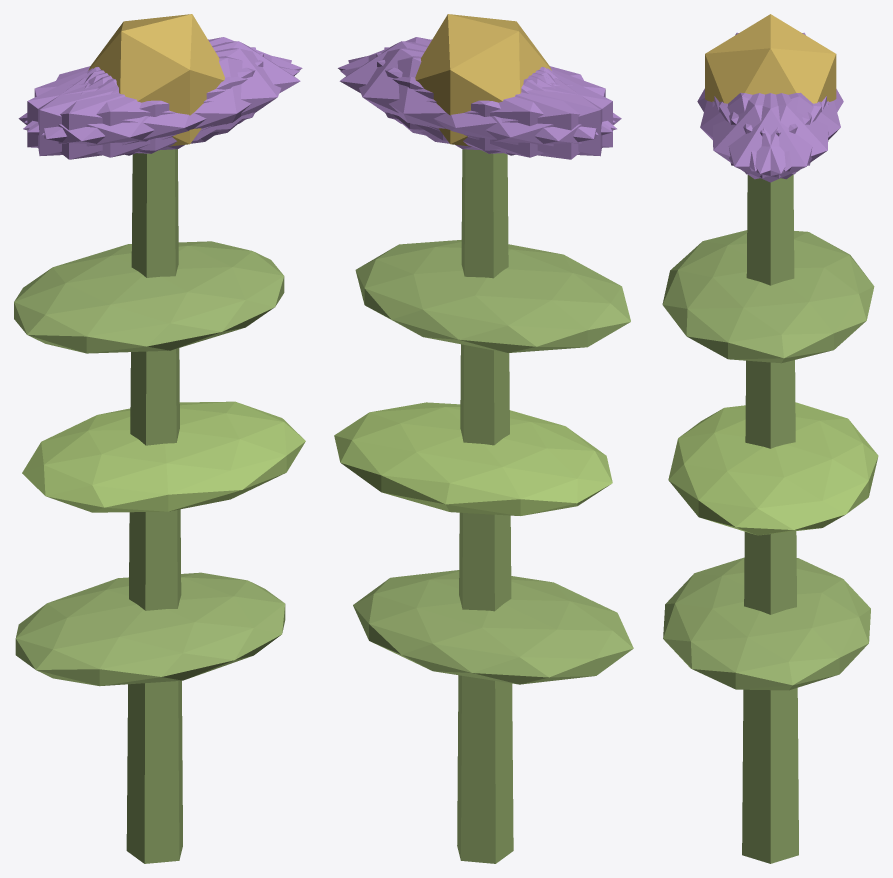
Rendered from celosia-argentea.glb.
3 renders of one model, left to right at view 1: azimuth 30°, elevation 25°; view 2: azimuth 150°, elevation 25°; view 3: azimuth 270°, elevation 25°, orthographic.
Parts seen in each view (by area): view 1: stem, leaf2, leaf0, leaf1, center, petal1, petal6, petal2, petal5, petal7, petal0, petal4 (+2 smaller); view 2: stem, leaf1, leaf2, leaf0, center, petal8, petal3, petal7, petal4, petal2, petal0, petal5 (+2 smaller); view 3: stem, leaf1, leaf2, leaf0, center, petal0, petal4, petal5, petal8, petal1.
Boxes of the visible parts, x1=… form: stem: x1=126, y1=149, x2=182, y2=863; leaf2: x1=14, y1=241, x2=284, y2=353; leaf0: x1=15, y1=572, x2=285, y2=686; leaf1: x1=22, y1=401, x2=305, y2=512; center: x1=88, y1=14, x2=224, y2=146; petal1: x1=23, y1=56, x2=299, y2=157; petal6: x1=18, y1=68, x2=218, y2=159; petal2: x1=38, y1=47, x2=255, y2=155; petal5: x1=42, y1=48, x2=291, y2=150; petal7: x1=27, y1=53, x2=263, y2=153; petal0: x1=88, y1=41, x2=300, y2=140; petal4: x1=24, y1=37, x2=302, y2=132; stem: x1=457, y1=149, x2=513, y2=863; leaf1: x1=334, y1=402, x2=612, y2=515; leaf2: x1=355, y1=240, x2=630, y2=352; leaf0: x1=353, y1=570, x2=633, y2=684; center: x1=415, y1=14, x2=551, y2=146; petal8: x1=340, y1=56, x2=616, y2=157; petal3: x1=421, y1=68, x2=621, y2=159; petal7: x1=384, y1=47, x2=602, y2=156; petal4: x1=348, y1=48, x2=598, y2=150; petal2: x1=376, y1=53, x2=612, y2=153; petal0: x1=339, y1=41, x2=551, y2=140; petal5: x1=338, y1=37, x2=615, y2=132; stem: x1=742, y1=174, x2=798, y2=863; leaf1: x1=668, y1=402, x2=878, y2=535; leaf2: x1=662, y1=230, x2=874, y2=363; leaf0: x1=663, y1=557, x2=870, y2=690; center: x1=705, y1=14, x2=836, y2=103; petal0: x1=714, y1=93, x2=826, y2=182; petal4: x1=719, y1=93, x2=828, y2=179; petal5: x1=712, y1=93, x2=821, y2=179; petal8: x1=729, y1=92, x2=840, y2=171; petal1: x1=700, y1=92, x2=811, y2=171.
Size of the model in its own units: 0.1489 by 0.4224 by 0.1009.
